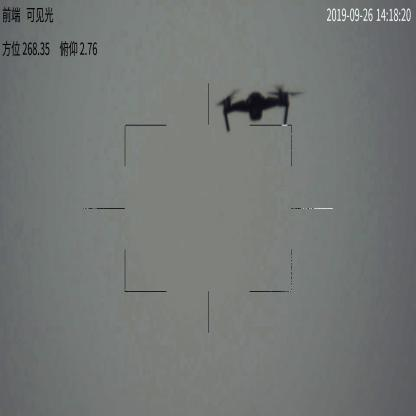uav: (213, 86, 305, 134)
